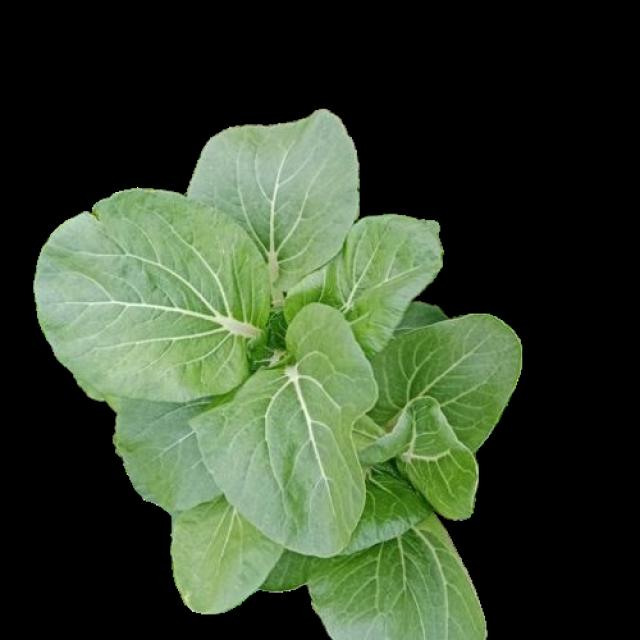healthy: (34, 110, 520, 632)
mature: (37, 113, 522, 635)
